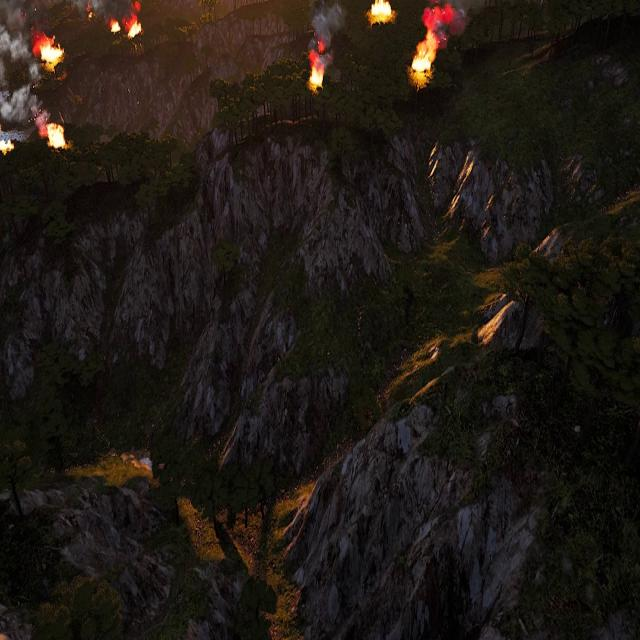fire: (410, 24, 440, 82), (308, 47, 328, 94), (34, 35, 62, 66), (368, 0, 393, 22), (47, 125, 65, 150), (0, 137, 16, 160), (128, 21, 144, 41), (111, 18, 122, 38)
smoke: (0, 0, 42, 133), (310, 3, 348, 52), (421, 0, 468, 32), (76, 0, 108, 25)
